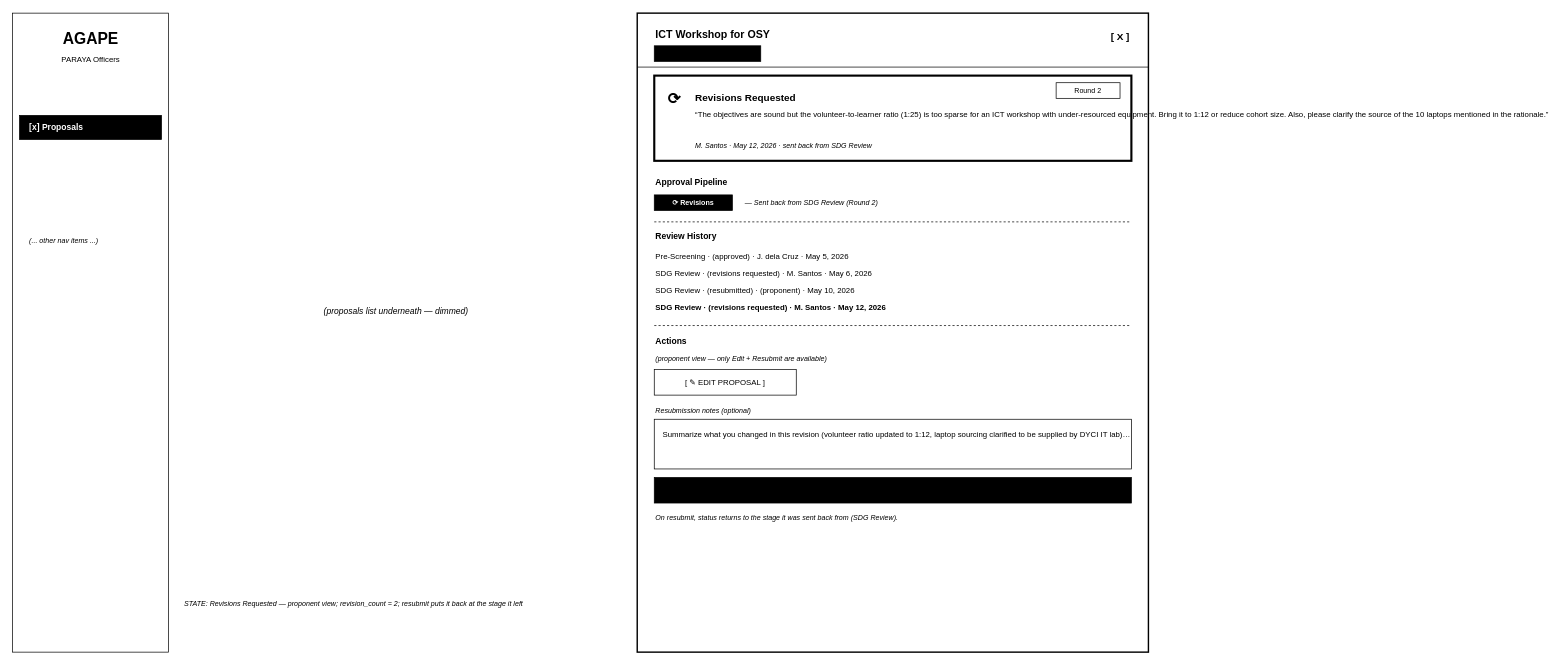
This 1561x665 diagram has some shape labels left out. The box of each missing label's shape, as (x1, y1, x2, y2) in pixels:
( revisions requested ): (654, 45, 761, 61)
[ ➤ RESUBMIT FOR REVIEW ]: (654, 477, 1131, 503)
